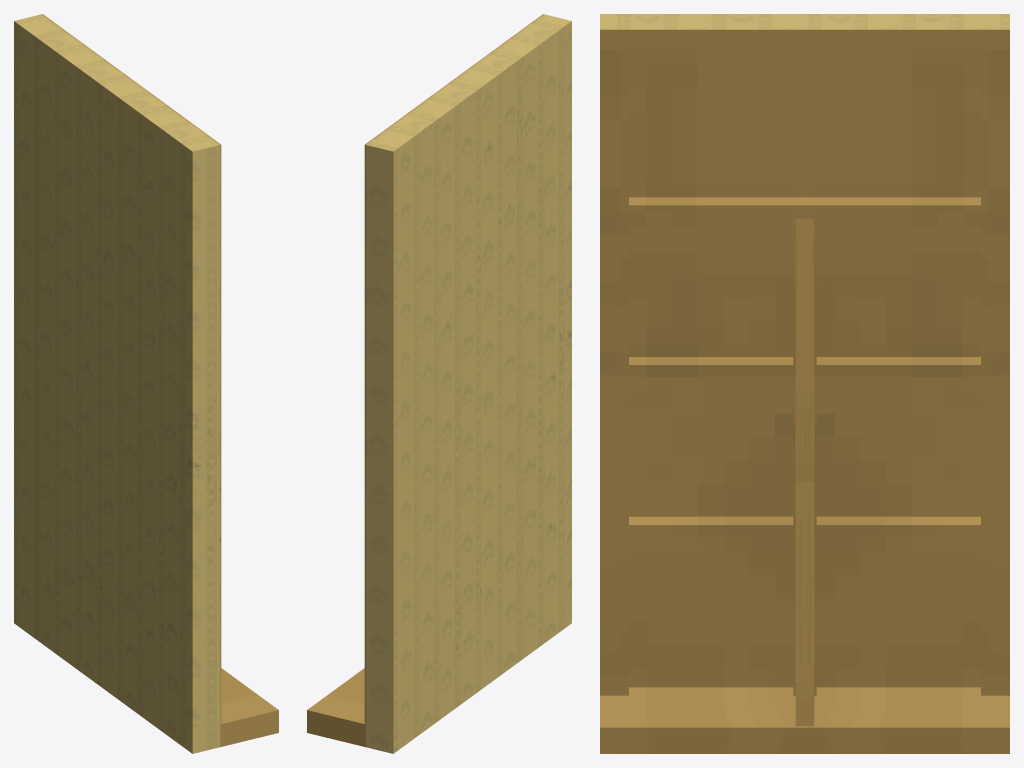
Rendered from item_backrooms_wall_1m.glb.
3 renders of one model, left to right at view 1: azimuth 30°, elevation 25°; view 2: azimuth 150°, elevation 25°; view 3: azimuth 270°, elevation 25°, orthographic. The views are drawn at different scales.
Visible parts, largest first — view 1: backrooms_wall_1m; view 2: backrooms_wall_1m; view 3: backrooms_wall_1m.
Boxes of the visible parts, box(x1,y1,x2,y2) form: backrooms_wall_1m: box(14, 14, 278, 753); backrooms_wall_1m: box(307, 14, 571, 753); backrooms_wall_1m: box(600, 14, 1009, 753).
Size of the model in its own units: 0.3 by 2 by 1.07.
1 material, 1 textured.
